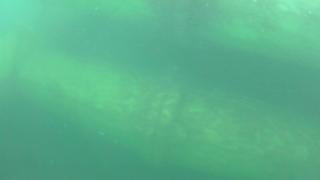pipe: (2, 38, 320, 180), (108, 1, 318, 72)
